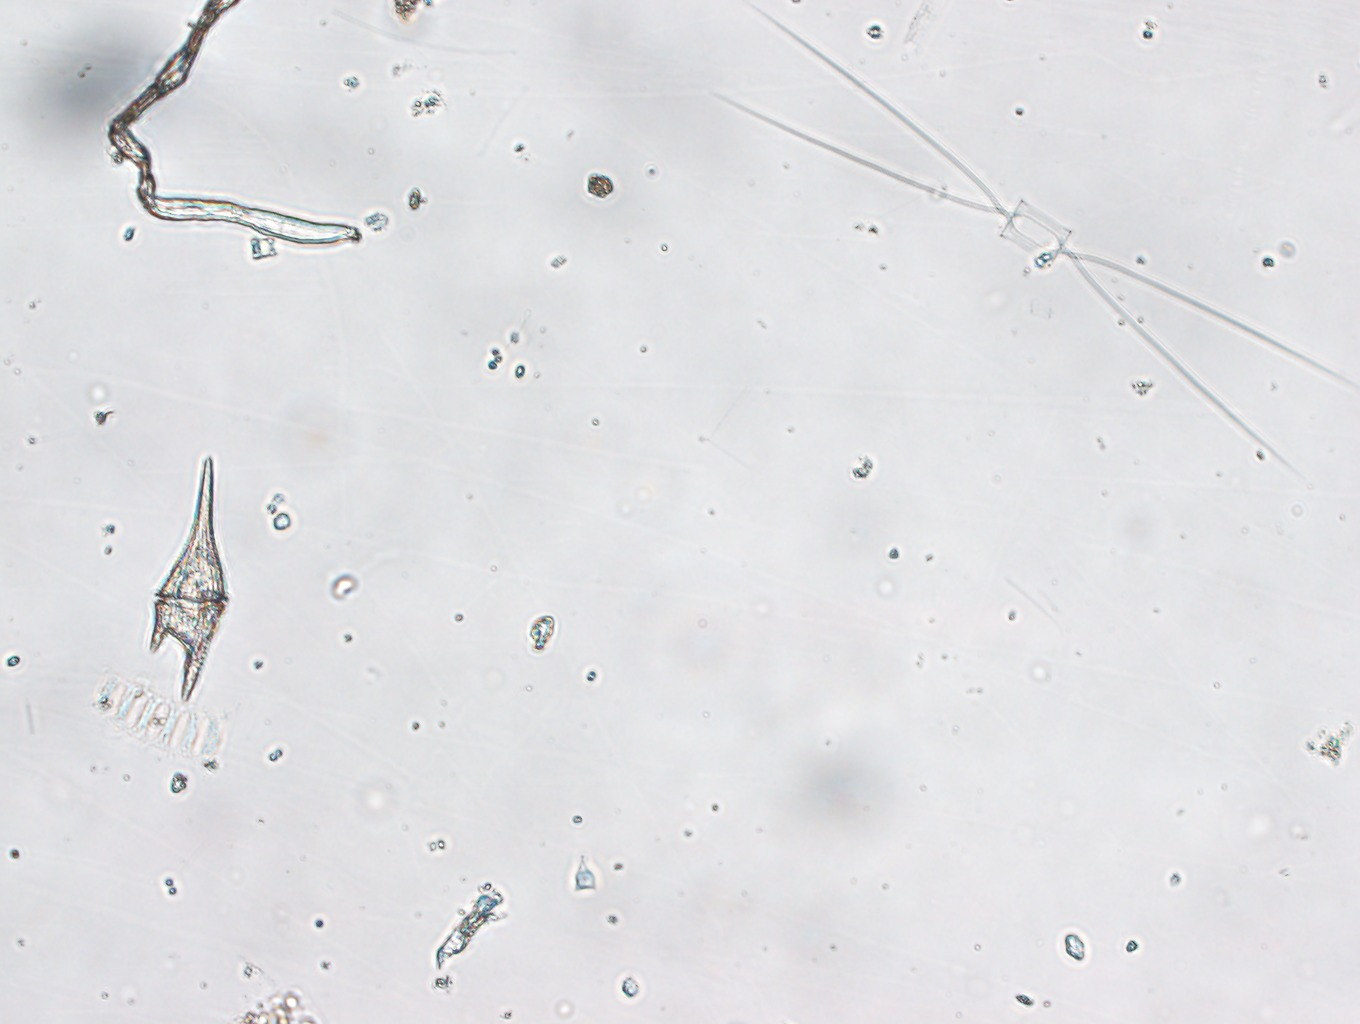ceratium furca: (142, 451, 237, 710)
chaetoceros: (712, 12, 1349, 477)
